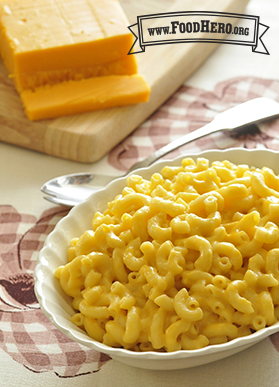macncheese: (56, 158, 277, 356)
